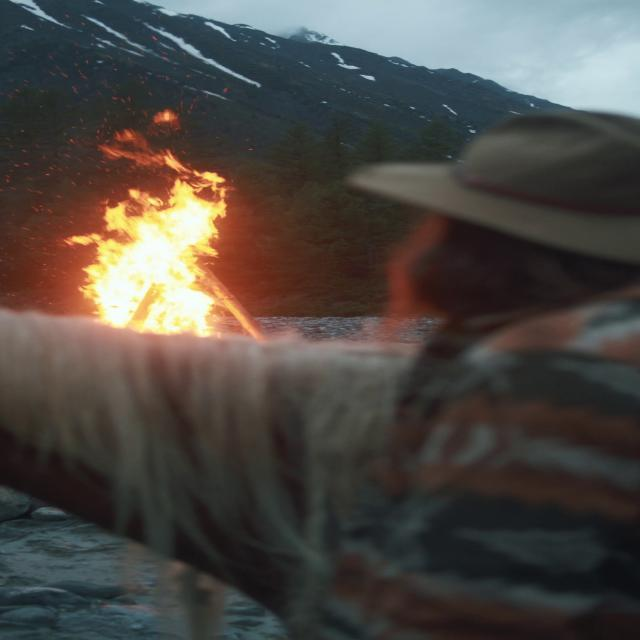Fire: (55, 153, 250, 337)
